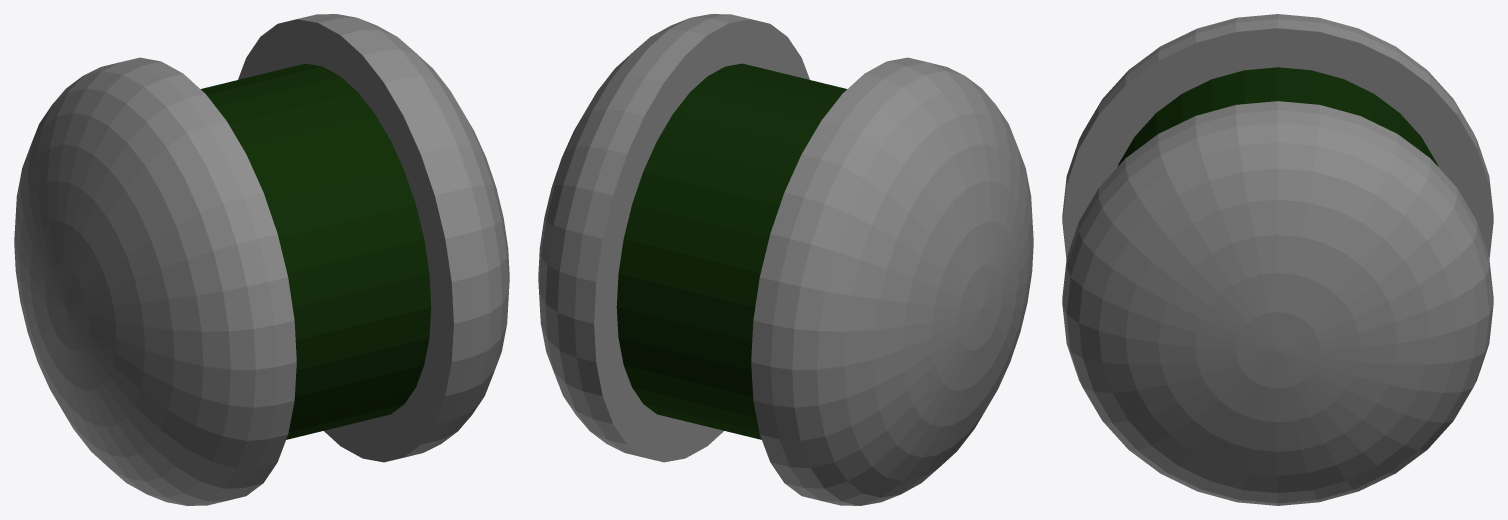
Rendered from OilMod.fbx.
3 views of the same model, side by side, from view 1: azimuth 30°, elevation 25°; view 2: azimuth 150°, elevation 25°; view 3: azimuth 270°, elevation 25° (orthographic). The views are drawn at different scales.
Visible parts, largest first — view 1: Sphere.006; view 2: Sphere.006; view 3: Sphere.006.
Boxes of the visible parts, x1=… form: Sphere.006: x1=14, y1=14, x2=509, y2=505; Sphere.006: x1=538, y1=14, x2=1033, y2=505; Sphere.006: x1=1062, y1=14, x2=1493, y2=505.
Size of the model in its own units: 20 by 20 by 20.
